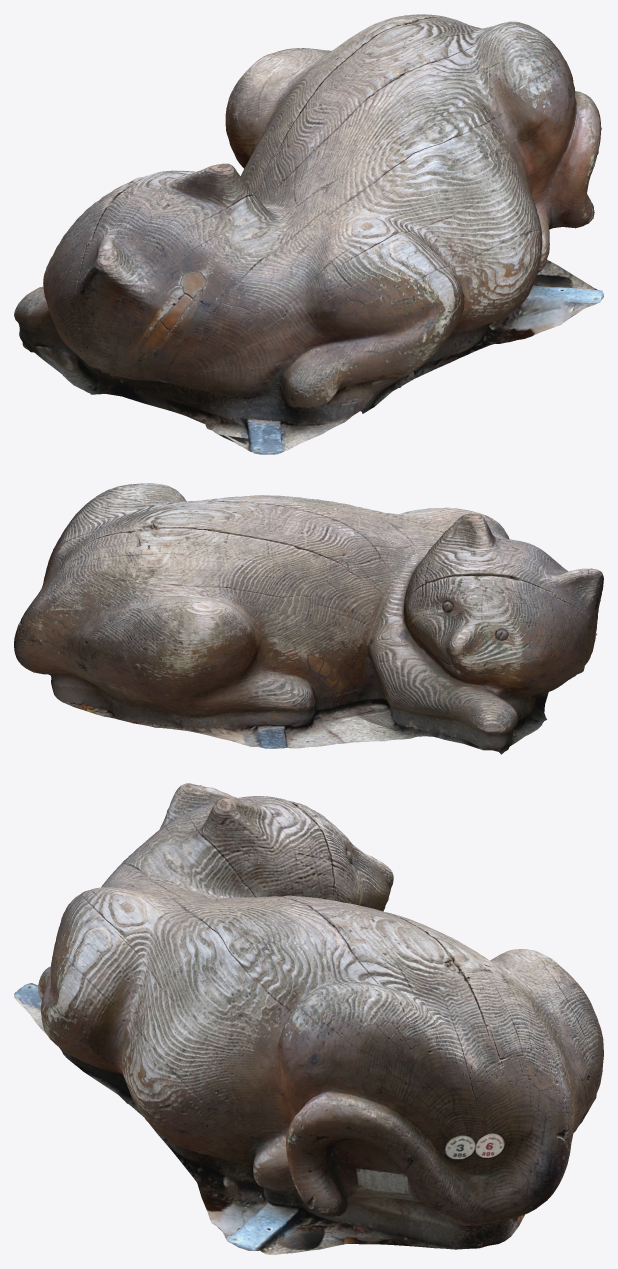
File: cat_statue.glb
3 renders of one model, top to bottom at view 1: azimuth 30°, elevation 25°; view 2: azimuth 150°, elevation 25°; view 3: azimuth 270°, elevation 25°, orthographic. The views are drawn at different scales.
Visible parts, largest first — view 1: Object_4; view 2: Object_4; view 3: Object_4.
Boxes of the visible parts, box(x1,y1,x2,y2) form: Object_4: box(14, 14, 603, 454); Object_4: box(14, 483, 603, 754); Object_4: box(14, 783, 603, 1254).
Size of the model in its own units: 1.67 by 0.6478 by 1.36.
1 material, 1 textured.
